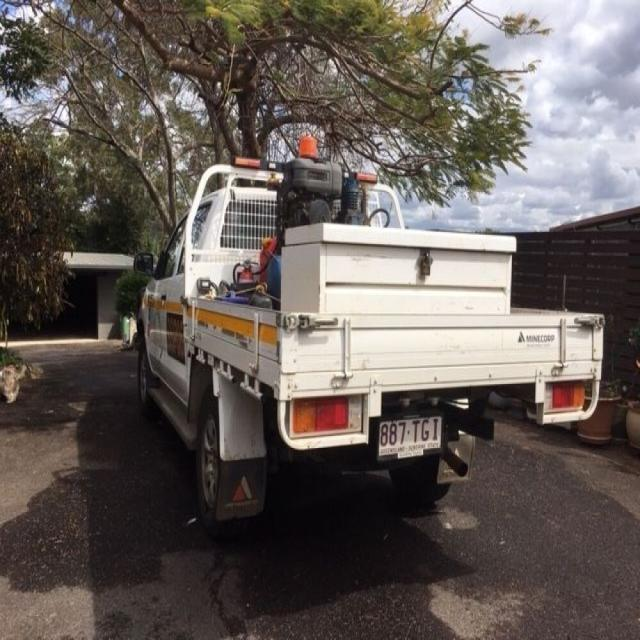light_vehicle: (126, 154, 604, 536)
